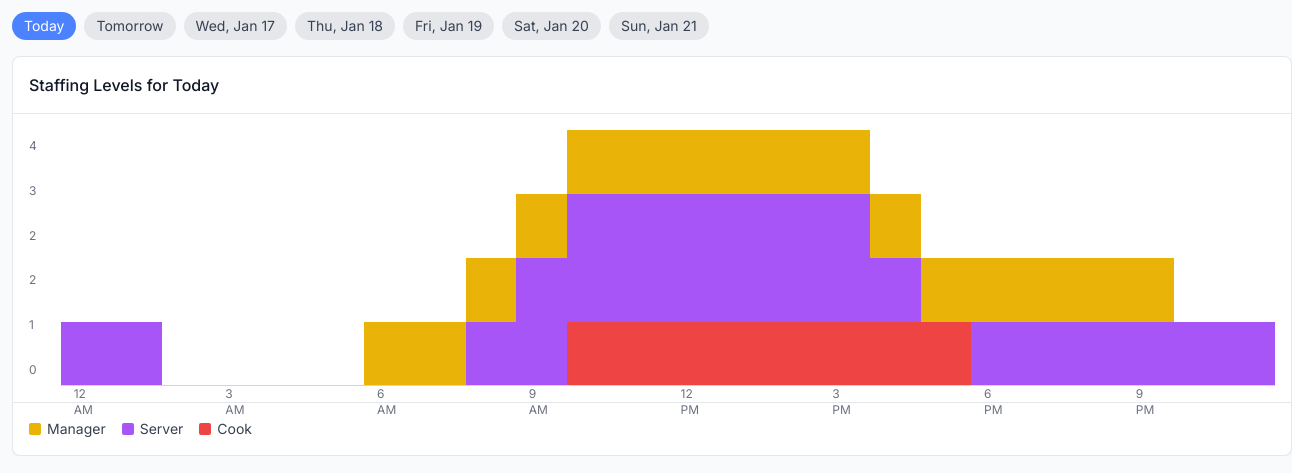
StaffingLevelsView Component › Tooltip Interactions › should hide tooltip on mouse leave
// Hover and then leave
Hover over the 12th element with class "relative": point(592, 258) [567, 130, 617, 386]
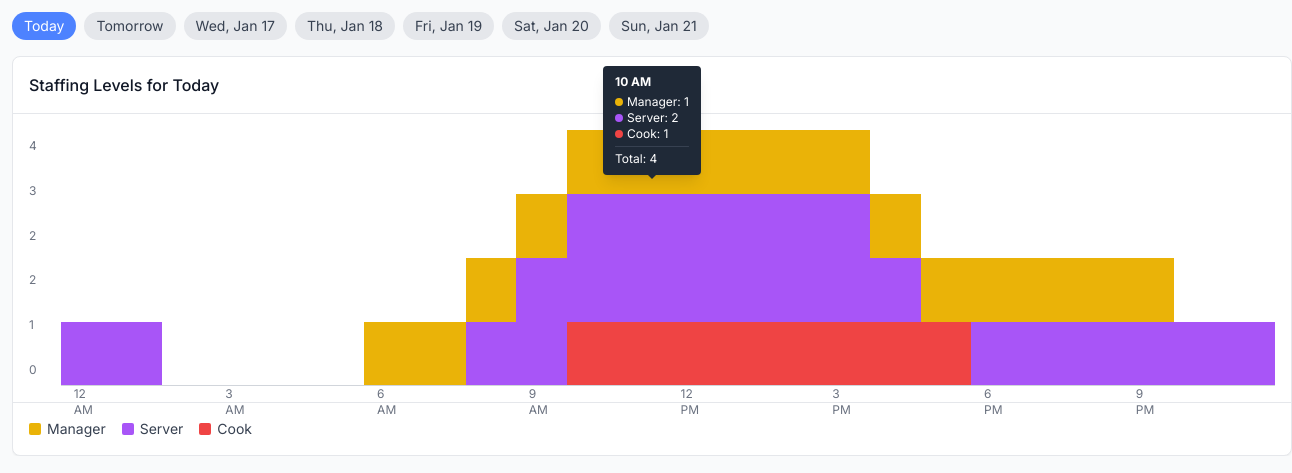
Move the pointer off the 12th element with class "relative", box [567, 130, 617, 386]
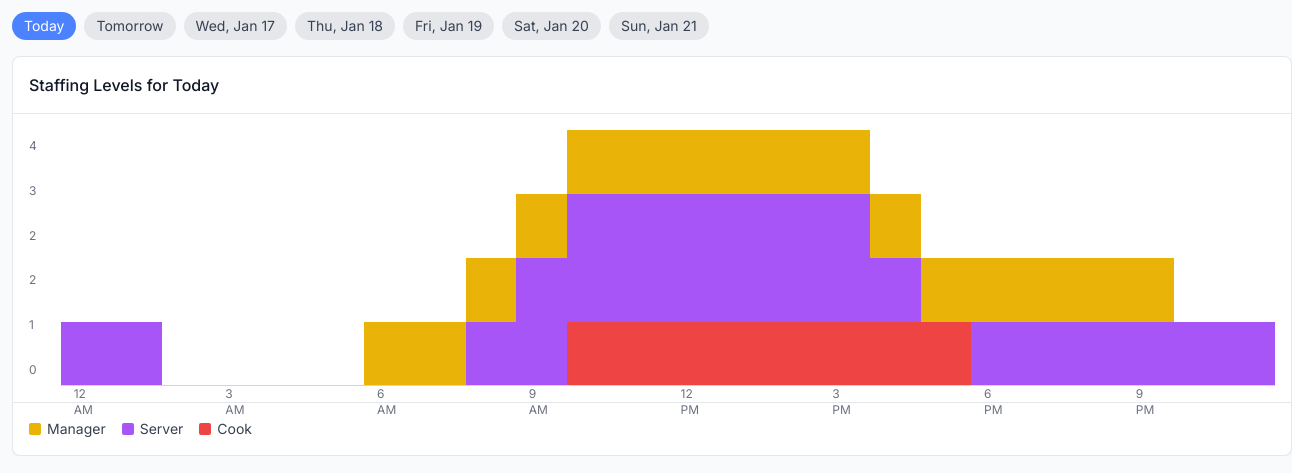
Now the text "10 AM" is gone
